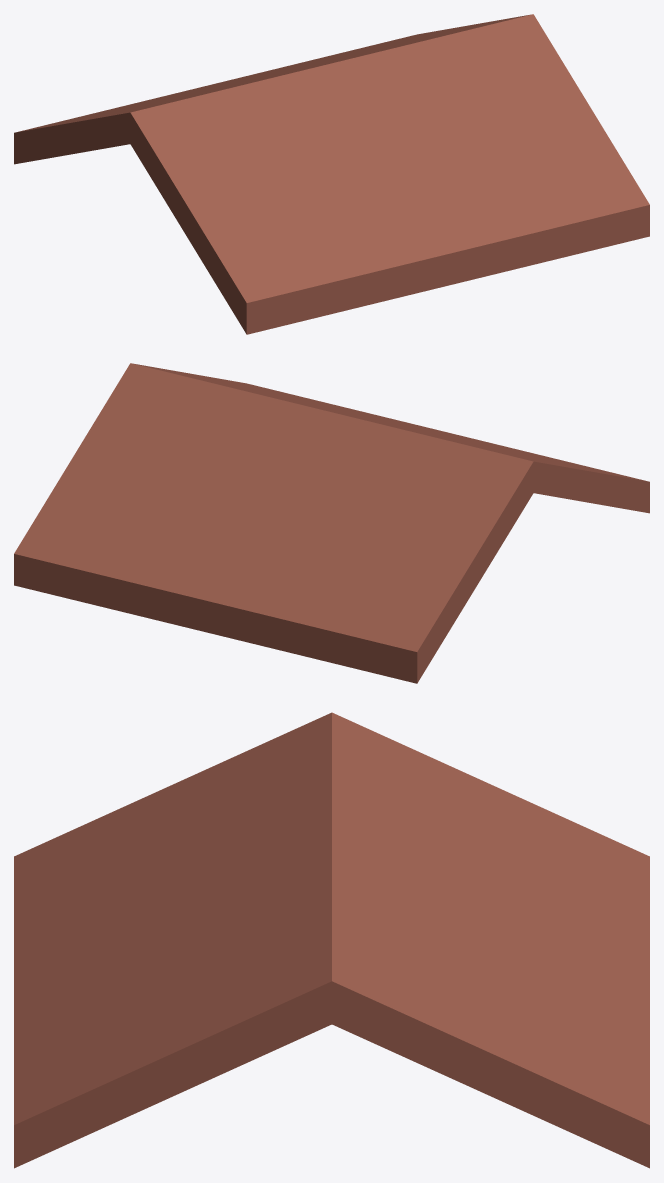
Rendered from roof_ridge.glb.
3 views of the same model, one above another, from view 1: azimuth 30°, elevation 25°; view 2: azimuth 150°, elevation 25°; view 3: azimuth 270°, elevation 25° (orthographic). The views are drawn at different scales.
Visible parts, largest first — view 1: Roof_Ridge; view 2: Roof_Ridge; view 3: Roof_Ridge.
Part boxes in pixels (x1,y1,x2,y2): Roof_Ridge: (14,14,649,334); Roof_Ridge: (14,363,649,683); Roof_Ridge: (14,712,649,1168).
Size of what is drawn, in the model's own units: 2 by 0.65 by 2.
Materials: 1 (1 with a texture image).
